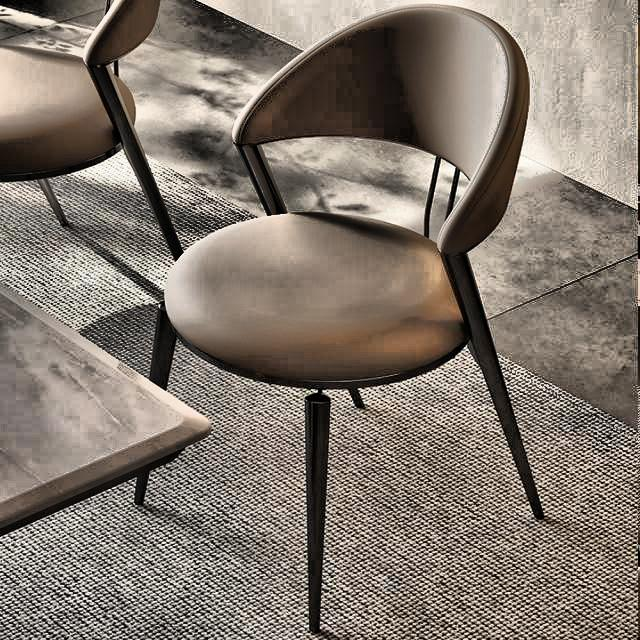cadeira: (133, 0, 547, 638), (169, 0, 506, 432), (0, 0, 191, 270), (0, 0, 158, 172)
